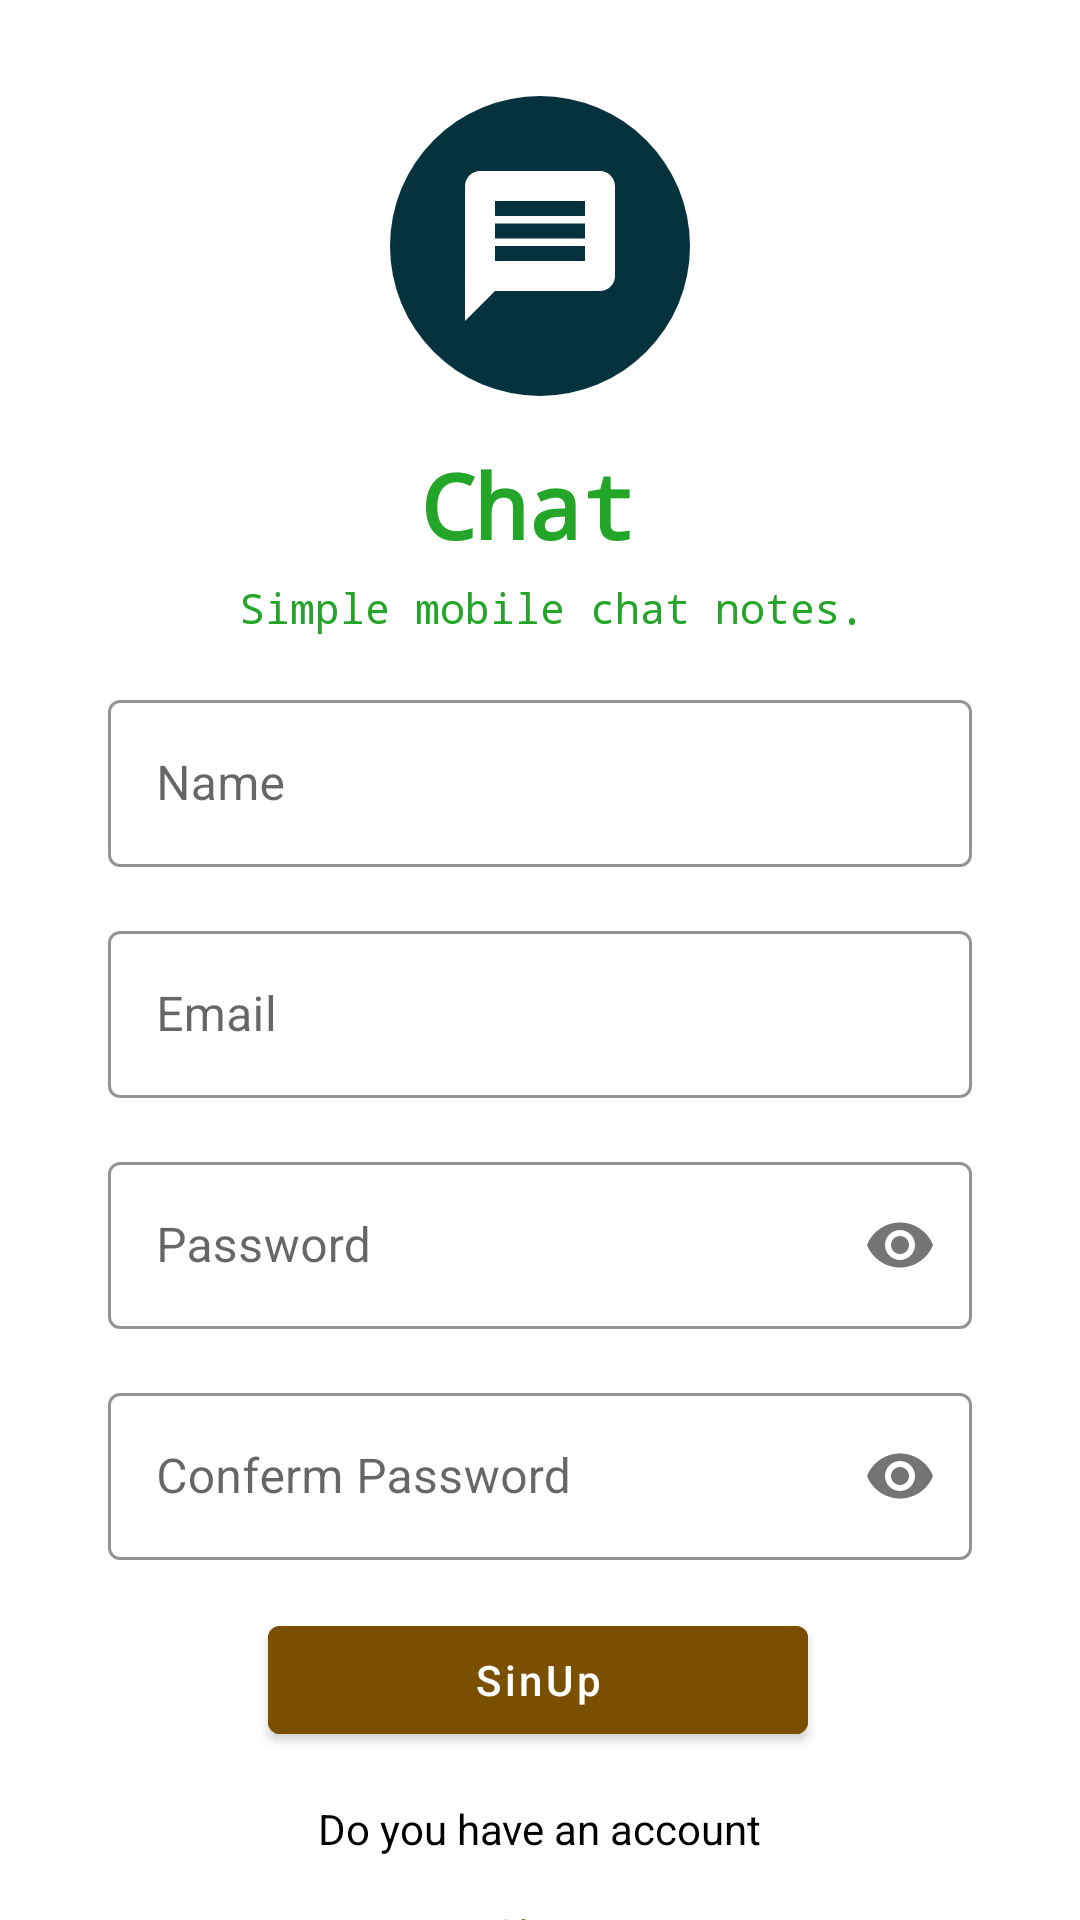

Icon bounding boxes for this 1080px x 1920px phone screenshot, format (x1, y1, x2, y2):
message: (390, 96, 690, 396)
